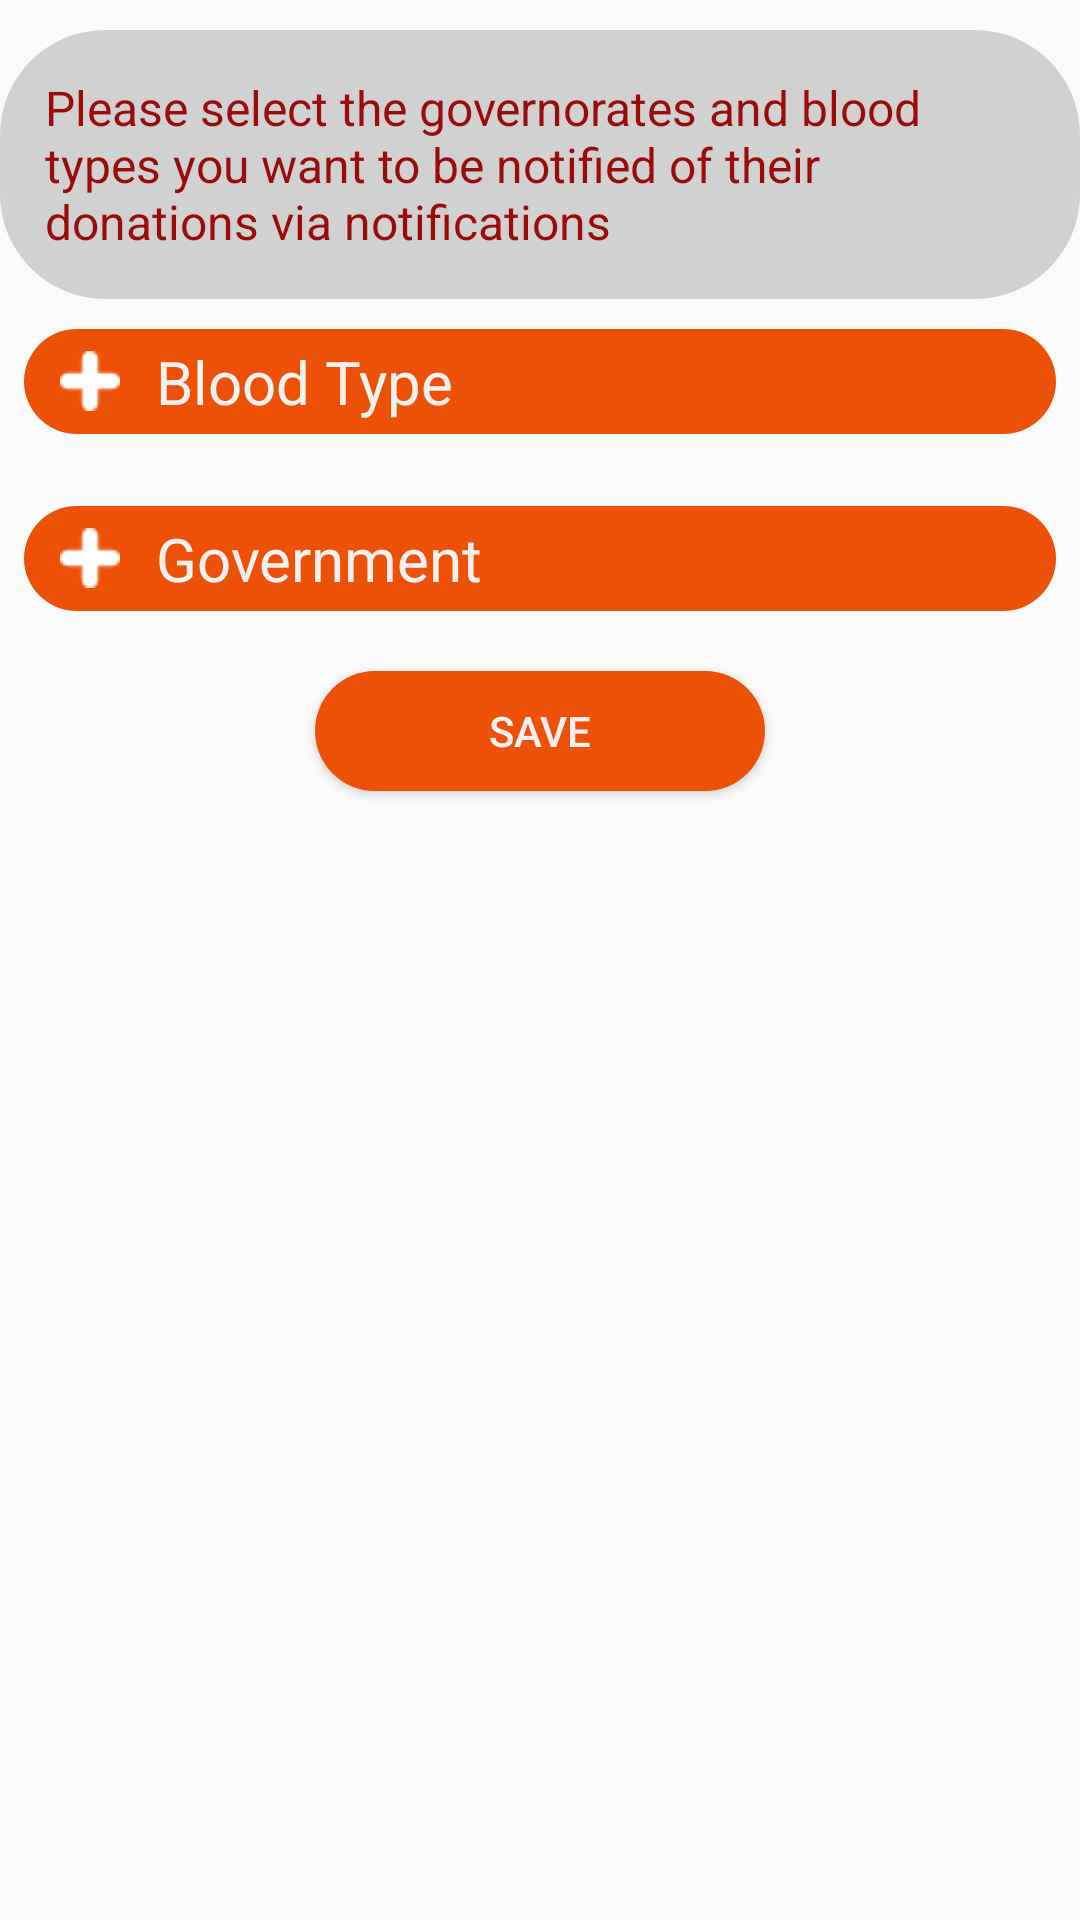

Icon click points for this 1080×1920 phone screenshot, format (x,y):
plus: (90,381), (90,558)
